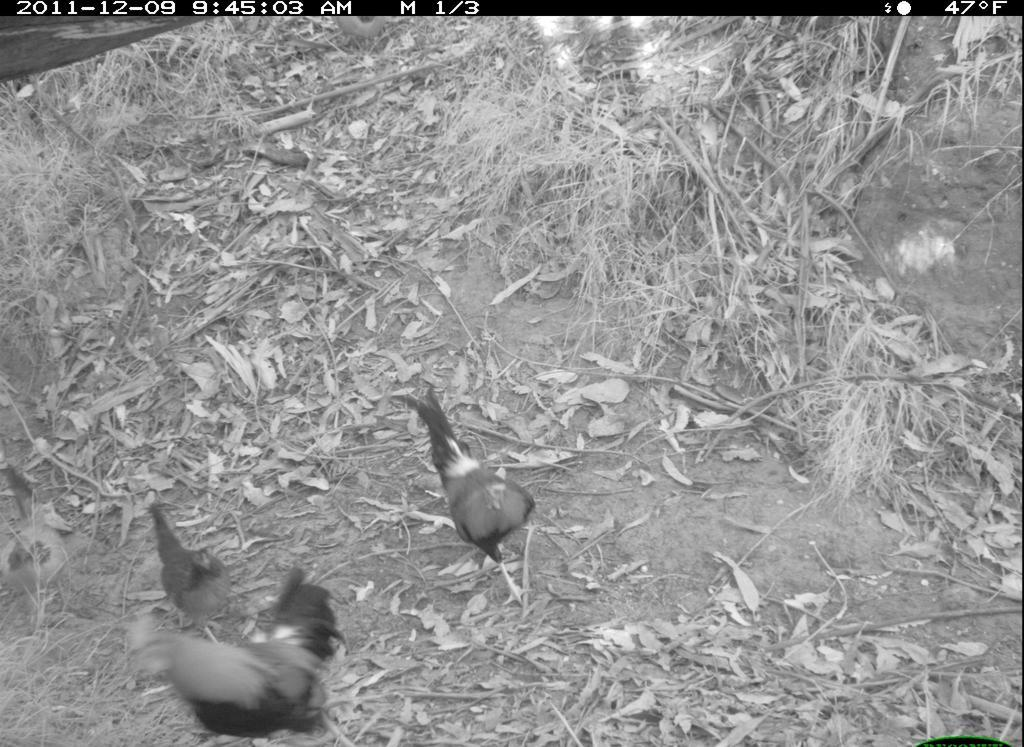bird: (123, 561, 357, 747), (403, 379, 541, 615), (143, 499, 237, 649)
